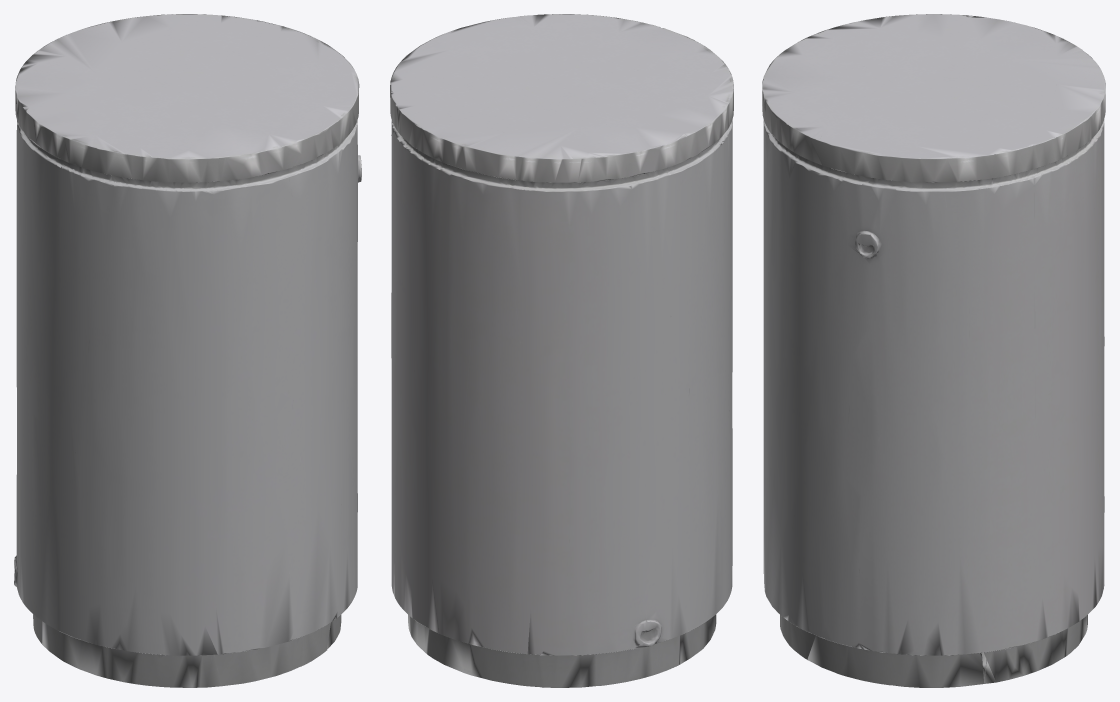
File: Lobby_Pedestal.glb
3 renders of one model, left to right at view 1: azimuth 30°, elevation 25°; view 2: azimuth 150°, elevation 25°; view 3: azimuth 270°, elevation 25°, orthographic.
Size of the model in its own units: 1.1 by 1.9 by 1.1.
Materials: 1 (1 with a texture image).
